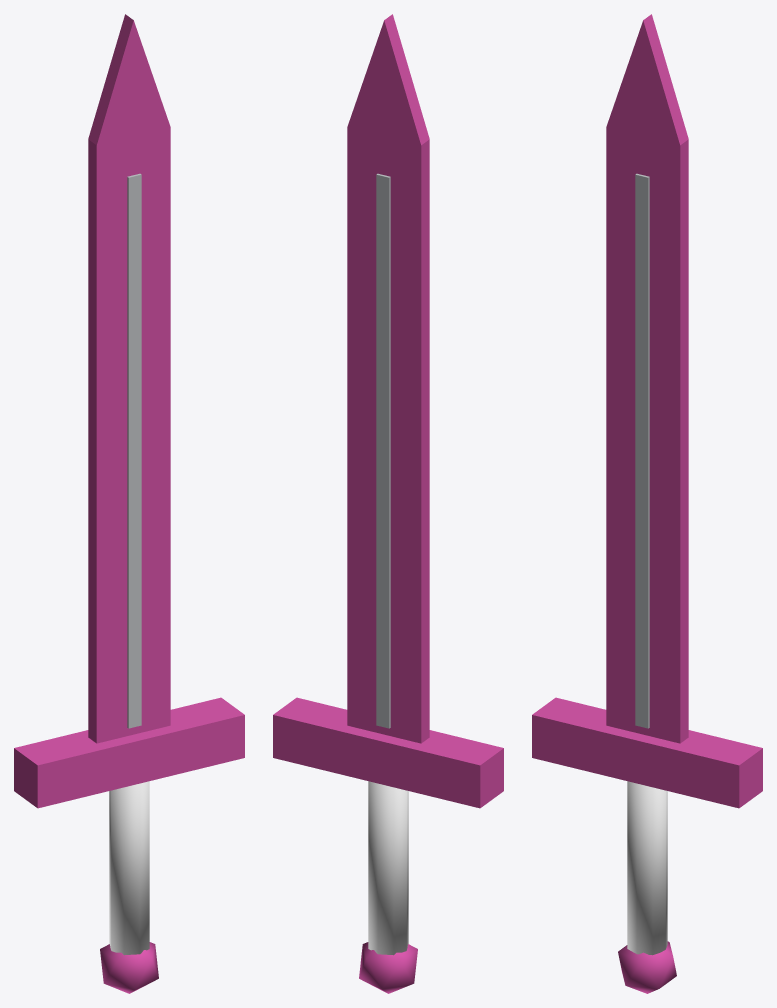
The model's file is orichalcum_broadsword.glb.
3 renders of one model, left to right at view 1: azimuth 30°, elevation 25°; view 2: azimuth 150°, elevation 25°; view 3: azimuth 330°, elevation 25°, orthographic.
Visible parts, largest first — view 1: orichalcum_broadsword_v0; view 2: orichalcum_broadsword_v0; view 3: orichalcum_broadsword_v0.
Part boxes in pixels (x1=…): orichalcum_broadsword_v0: x1=14, y1=14, x2=244, y2=993; orichalcum_broadsword_v0: x1=273, y1=14, x2=503, y2=993; orichalcum_broadsword_v0: x1=532, y1=14, x2=762, y2=993.
Bounding box in the file's own units: 0.252 × 1.13 × 0.0595.
